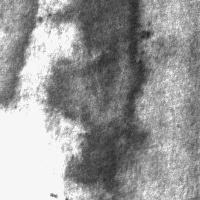patches: (50, 1, 148, 190), (1, 1, 37, 106), (97, 134, 157, 194)
